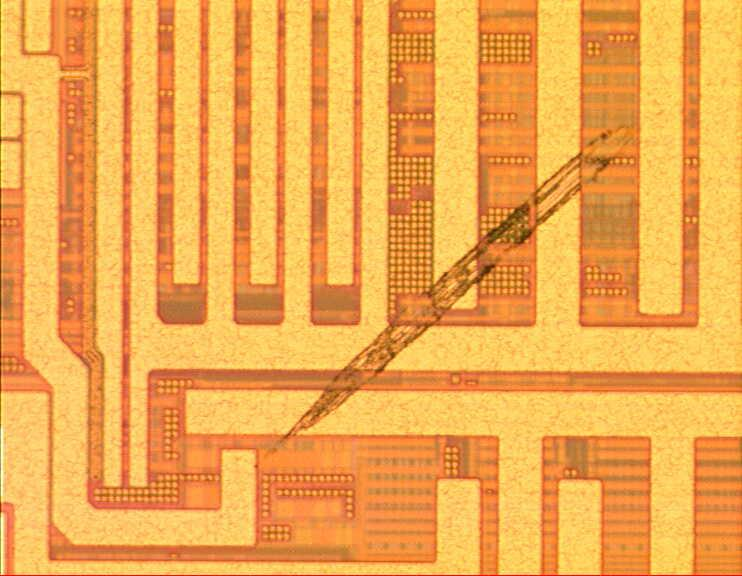SCRATCH: (238, 100, 669, 476)
